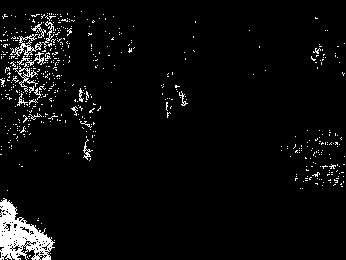person: (1, 196, 61, 258), (73, 84, 103, 163)
